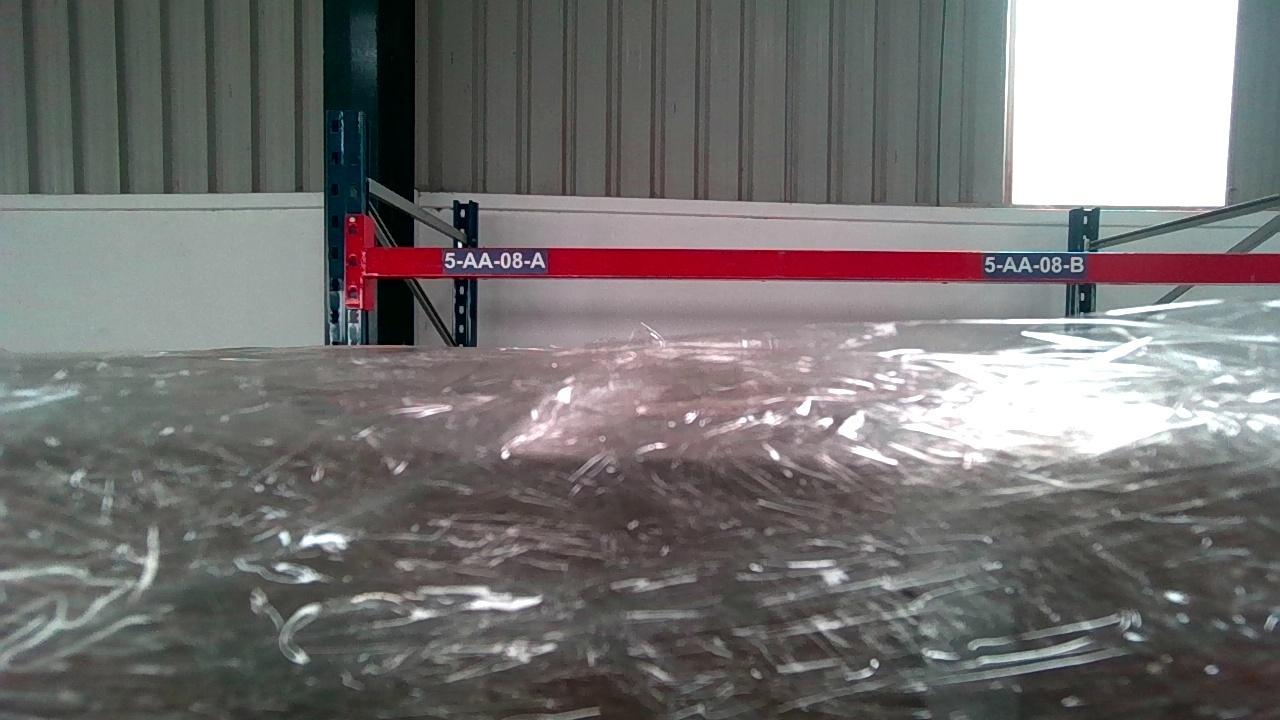h_rack: (364, 243, 1280, 282)
